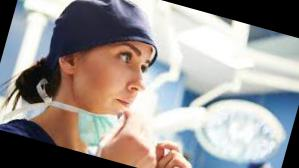mask_weared_incorrect: (75, 37, 162, 146)
with_mask: (241, 167, 265, 168)
